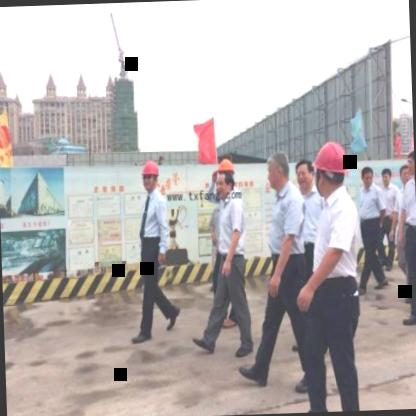head: (265, 150, 291, 192), (294, 158, 315, 194), (212, 173, 237, 203), (396, 162, 414, 192), (360, 163, 375, 189), (405, 148, 415, 178), (380, 166, 392, 188)
helmet: (312, 140, 350, 198), (138, 158, 159, 192), (216, 157, 235, 185)
